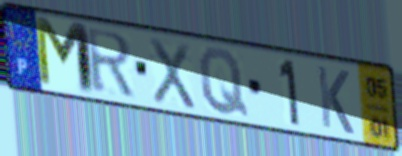1: (277, 58, 303, 129)
K: (315, 62, 357, 138)
M: (31, 13, 99, 99)
Q: (196, 46, 252, 120)
R: (83, 26, 137, 99)
X: (147, 34, 198, 113)
